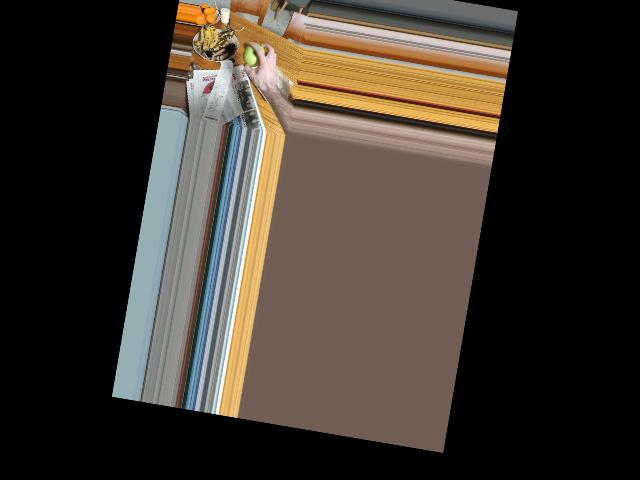apple: (242, 40, 266, 69)
